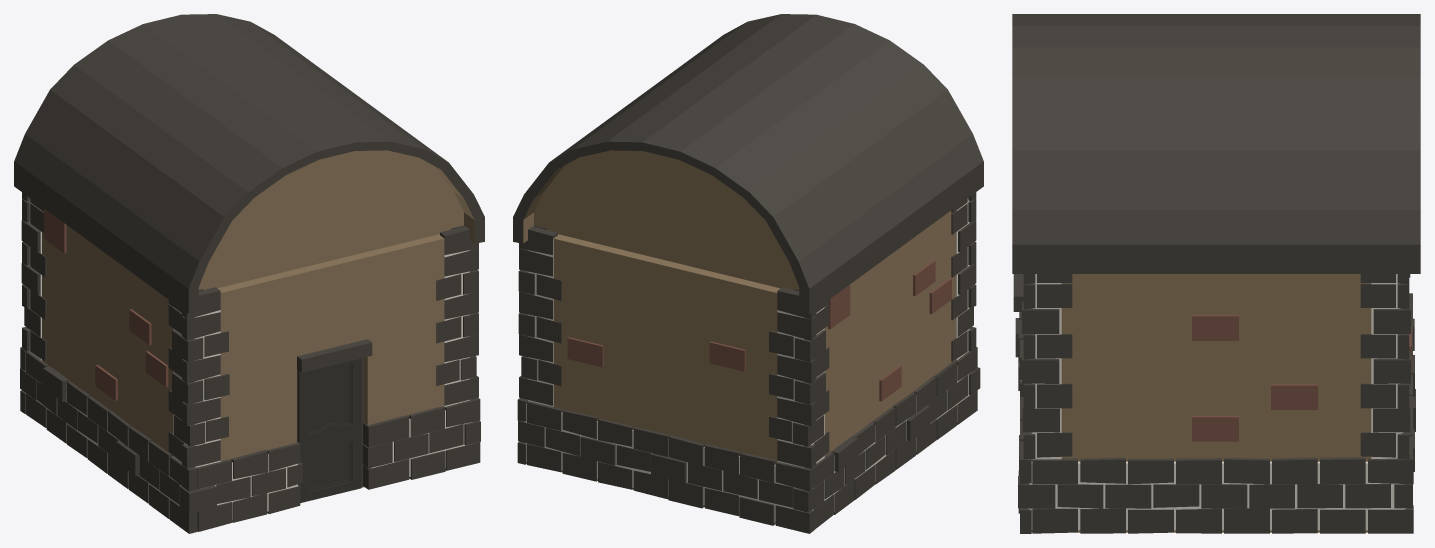
Rendered from london-terrace-e.glb.
3 views of the same model, side by side, from view 1: azimuth 30°, elevation 25°; view 2: azimuth 150°, elevation 25°; view 3: azimuth 270°, elevation 25° (orthographic). The views are drawn at different scales.
Size of the model in its own units: 2.09 by 2.38 by 2.13.
